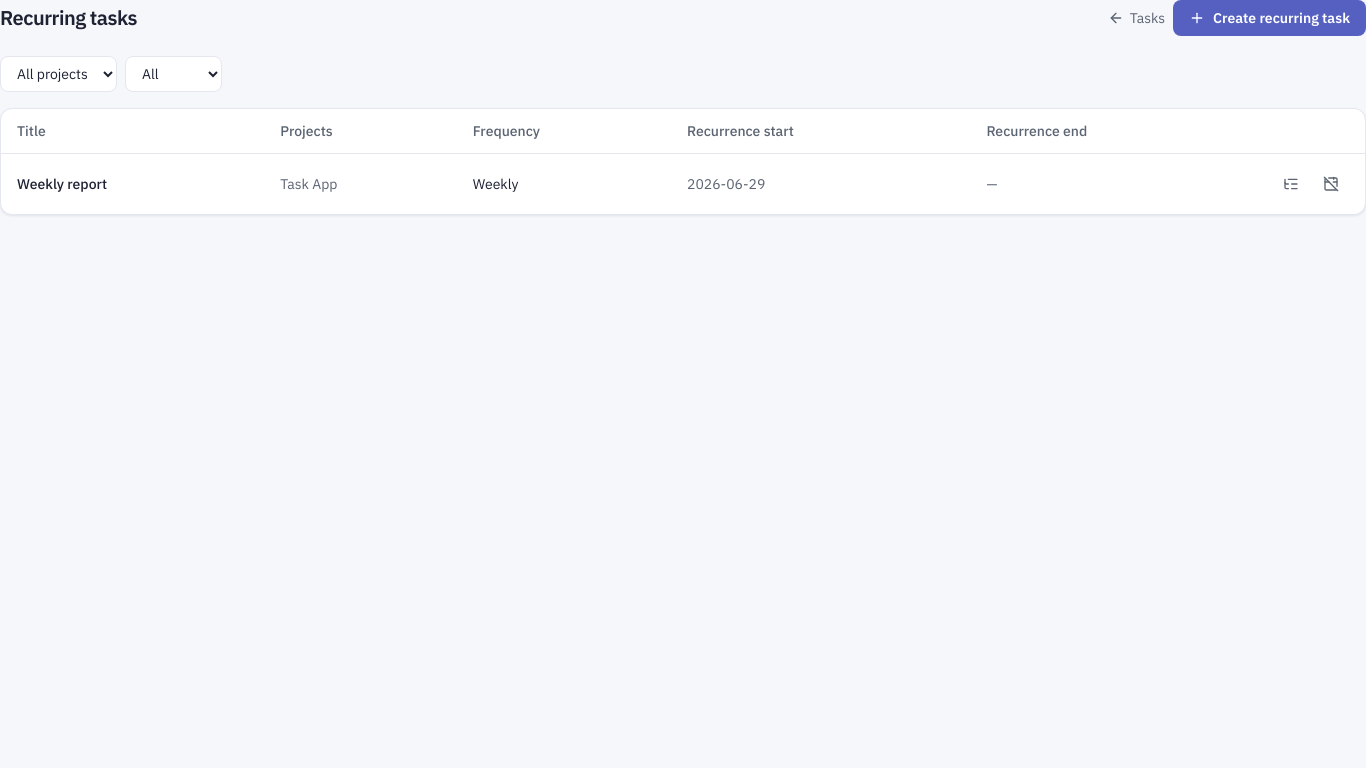
recurring tasks › lists rules with frequency and shows generated tasks
Expected: the text "Weekly report" is shown, [17,175,107,193]
Expected: the text "Weekly" is shown, [473,175,518,193]
Click the button named "view generated" at (1291, 184), box [1273,166,1309,202]
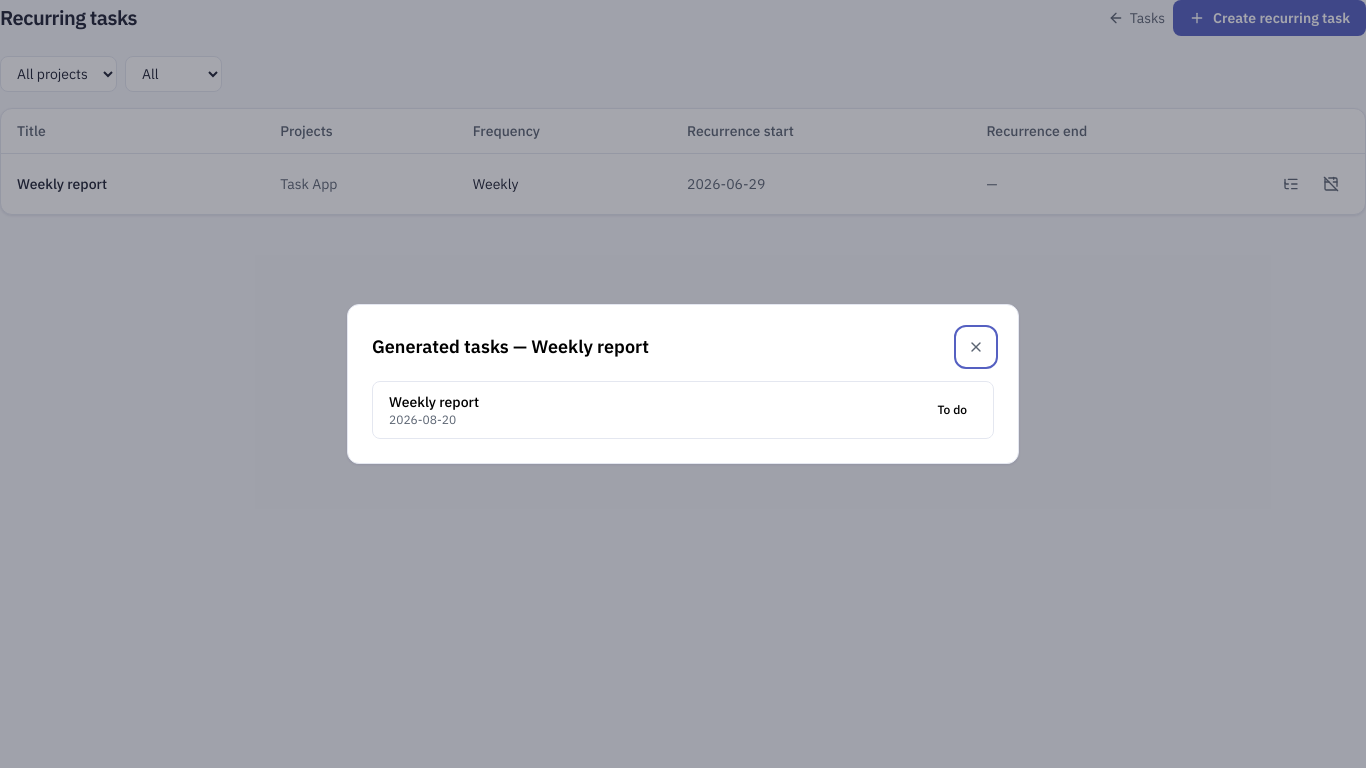
Expected: the text "2026-08-20" is shown, [389,412,456,427]
Expected: the text "To do" is shown, [937,402,967,417]
